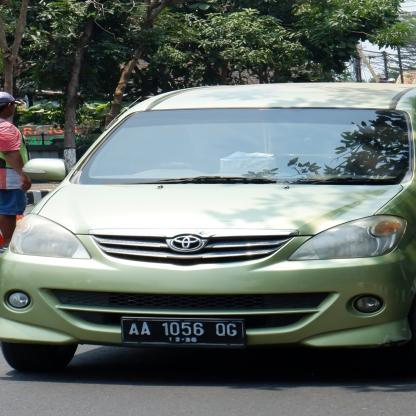Plat-Nomor: (112, 312, 256, 352)
